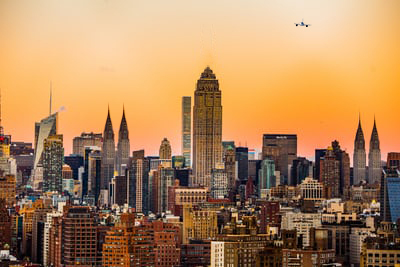copymove: (367, 107, 384, 184), (116, 98, 135, 162), (103, 99, 116, 159)
removal: (201, 23, 213, 75)
spliced: (291, 18, 316, 29)
